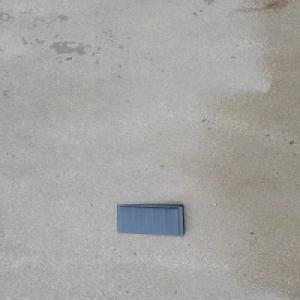PlasticPart: (115, 203, 186, 236)
